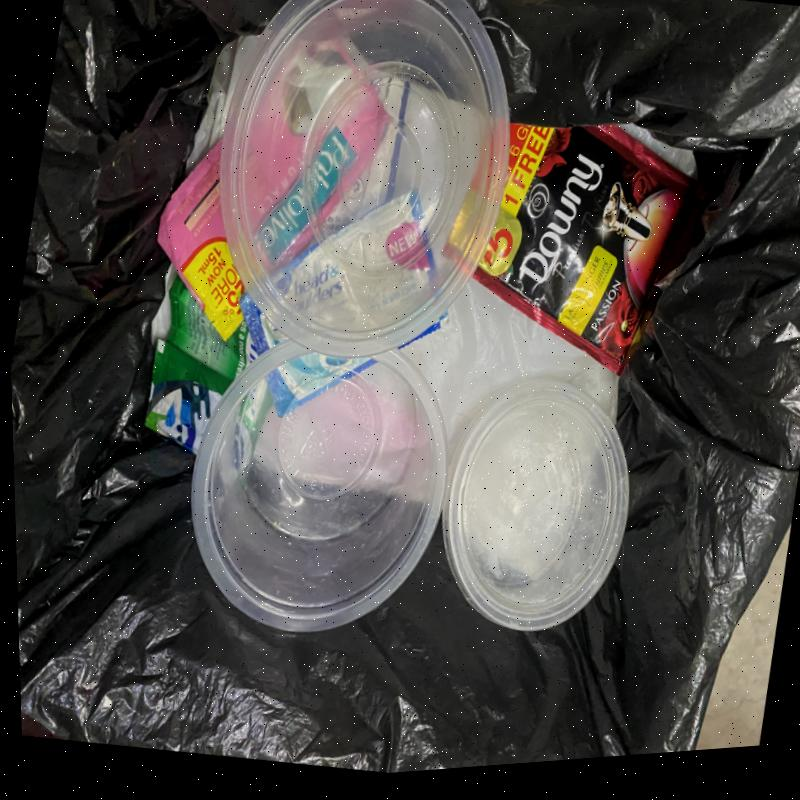plastic container: (220, 0, 512, 358), (192, 341, 448, 632), (443, 376, 631, 631)
plastic sachet: (474, 122, 708, 375), (146, 274, 269, 451), (158, 137, 245, 341)
